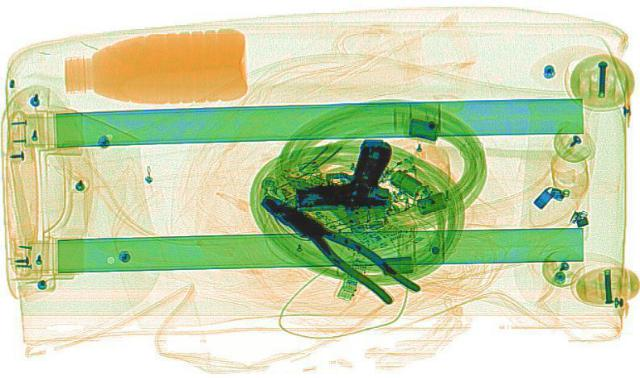Gun: (286, 137, 392, 207)
Pliers: (239, 187, 426, 301)
